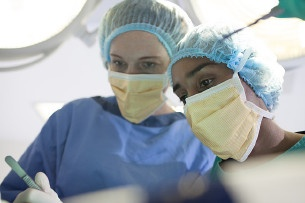Mask: (104, 49, 176, 121)
